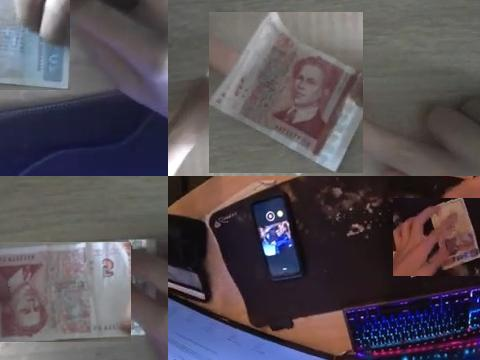50leva: (393, 198, 480, 276)
5leva: (209, 12, 363, 173), (0, 242, 131, 342)
